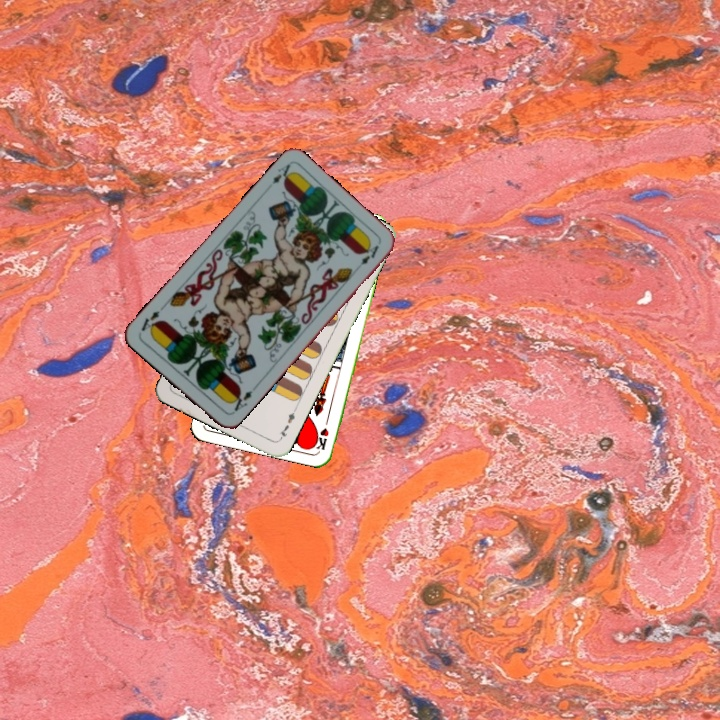E7: (275, 405, 299, 443)
EA: (226, 386, 255, 416), (268, 160, 296, 187)
HK: (313, 412, 332, 452)
